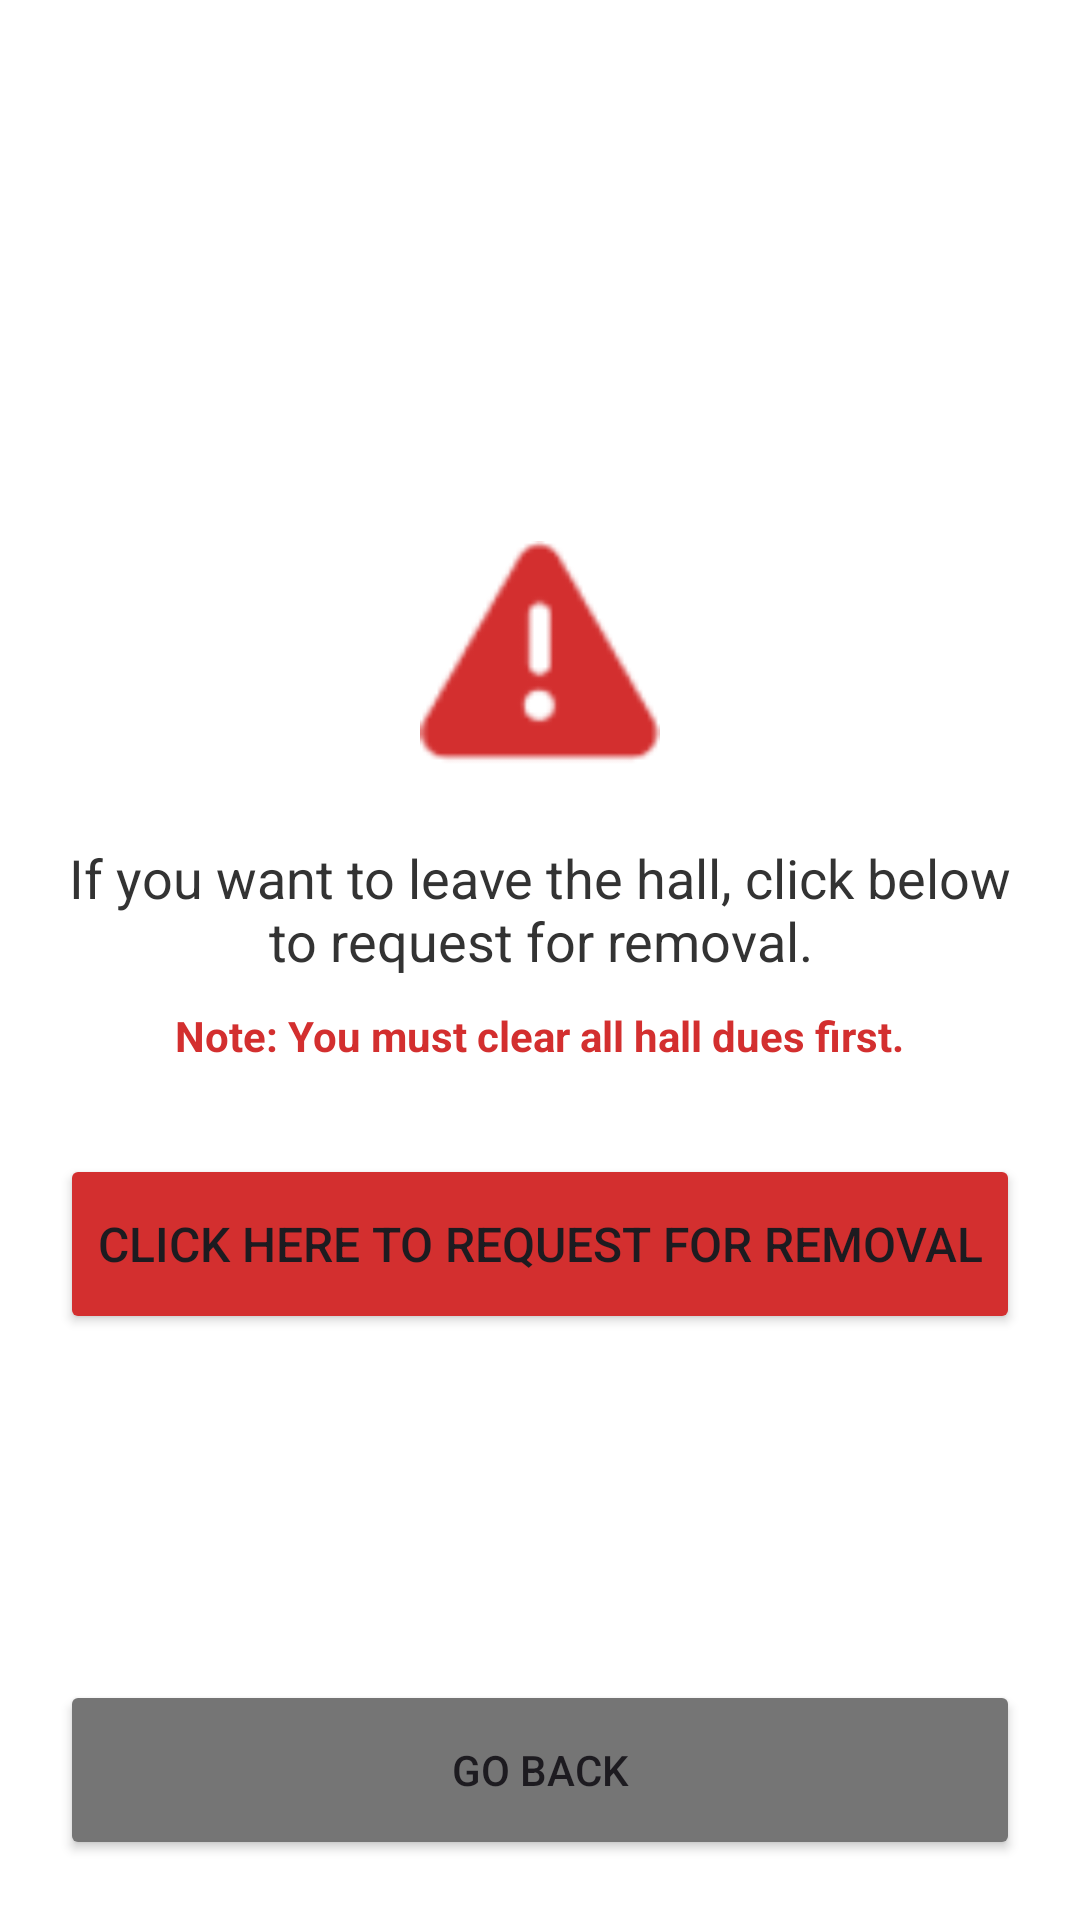

Screen size 1080*1920. Icon name, then its center in pixels as point (x, y):
alert: point (540, 650)
